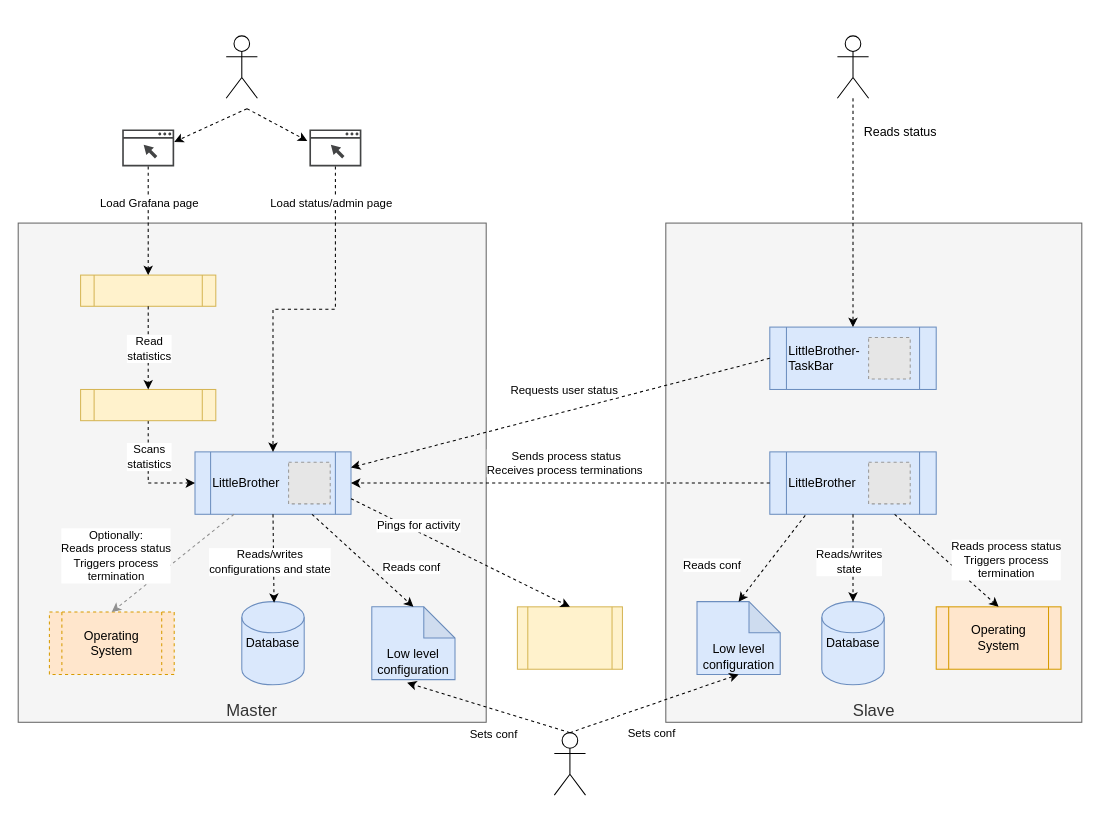
The diagram is 1100 pixels wide and 839 high, and some of its shapes have lost their labels. Grey dashed boxes stand in for pictures. Here are the shapes that lost their labels. From the top down, the centre of each, then its label:
the point at 241,66: Administrator
the point at 852,66: Monitored User
the point at 148,290: Grafana
the point at 148,404: Prometheus
the point at 569,637: Monitored Device
the point at 569,763: System Administrator
